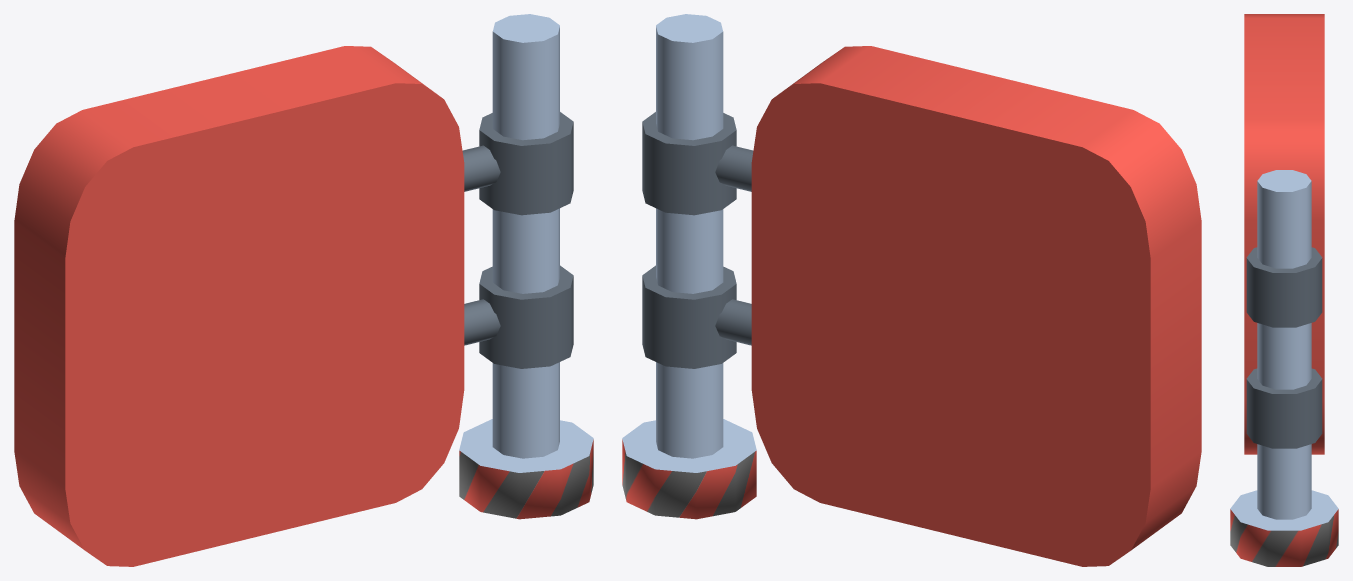
The model's file is RotationWall01.fbx.
3 renders of one model, left to right at view 1: azimuth 30°, elevation 25°; view 2: azimuth 150°, elevation 25°; view 3: azimuth 270°, elevation 25°, orthographic. The views are drawn at different scales.
Visible parts, largest first — view 1: RotationWall.001, Rotation_Wall_Base.001; view 2: RotationWall.001, Rotation_Wall_Base.001; view 3: RotationWall.001, Rotation_Wall_Base.001.
Boxes of the visible parts, x1=… form: RotationWall.001: x1=14, y1=46, x2=573, y2=566; Rotation_Wall_Base.001: x1=459, y1=14, x2=593, y2=519; RotationWall.001: x1=642, y1=46, x2=1201, y2=566; Rotation_Wall_Base.001: x1=622, y1=14, x2=756, y2=519; RotationWall.001: x1=1244, y1=14, x2=1324, y2=454; Rotation_Wall_Base.001: x1=1230, y1=170, x2=1338, y2=566.
Size of the model in its own units: 246 by 201 by 54.
